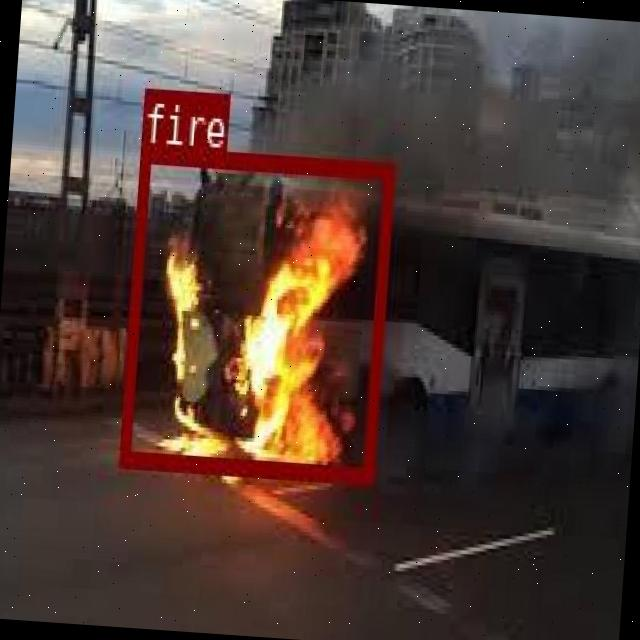fire: (119, 143, 392, 481)
